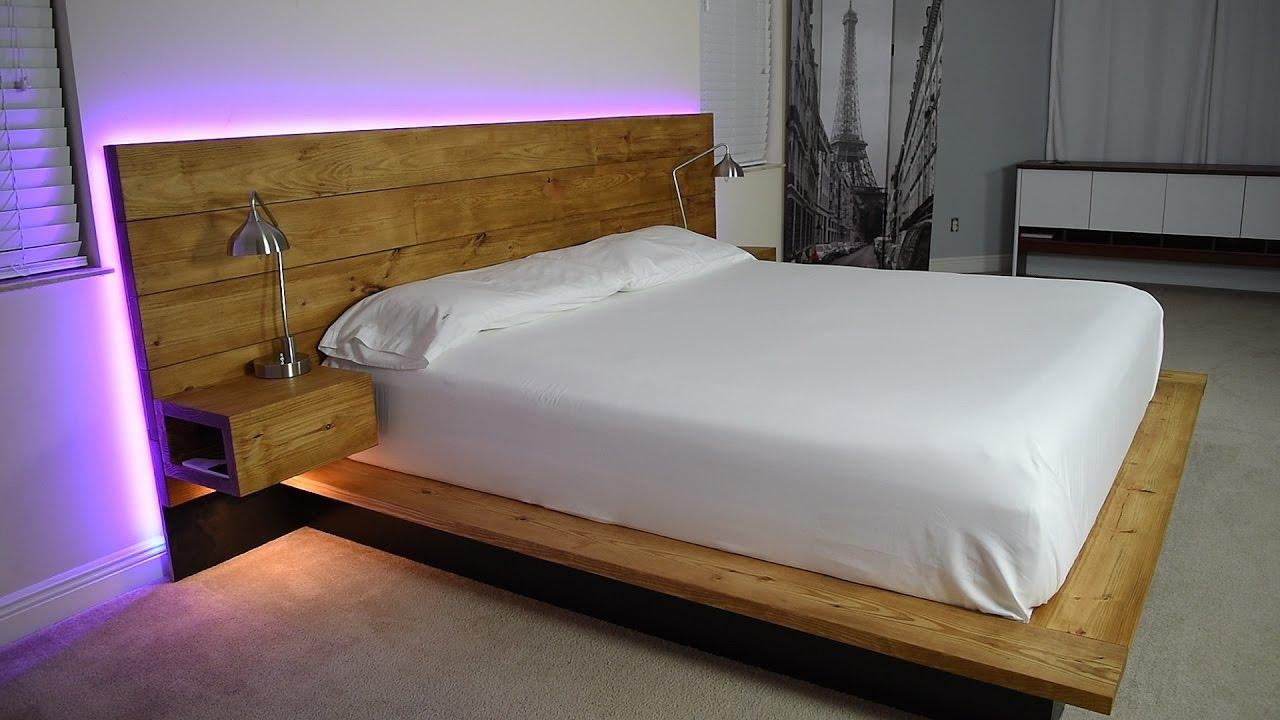bed: (382, 168, 1183, 622)
